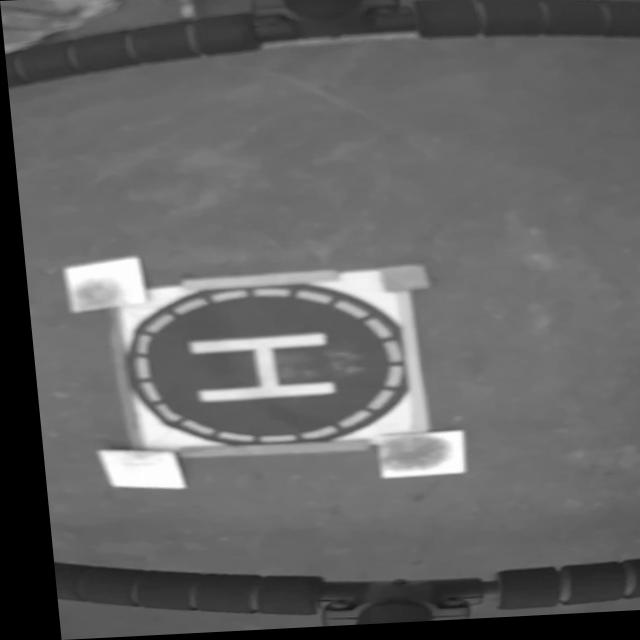Helipad: (181, 335, 329, 403)
